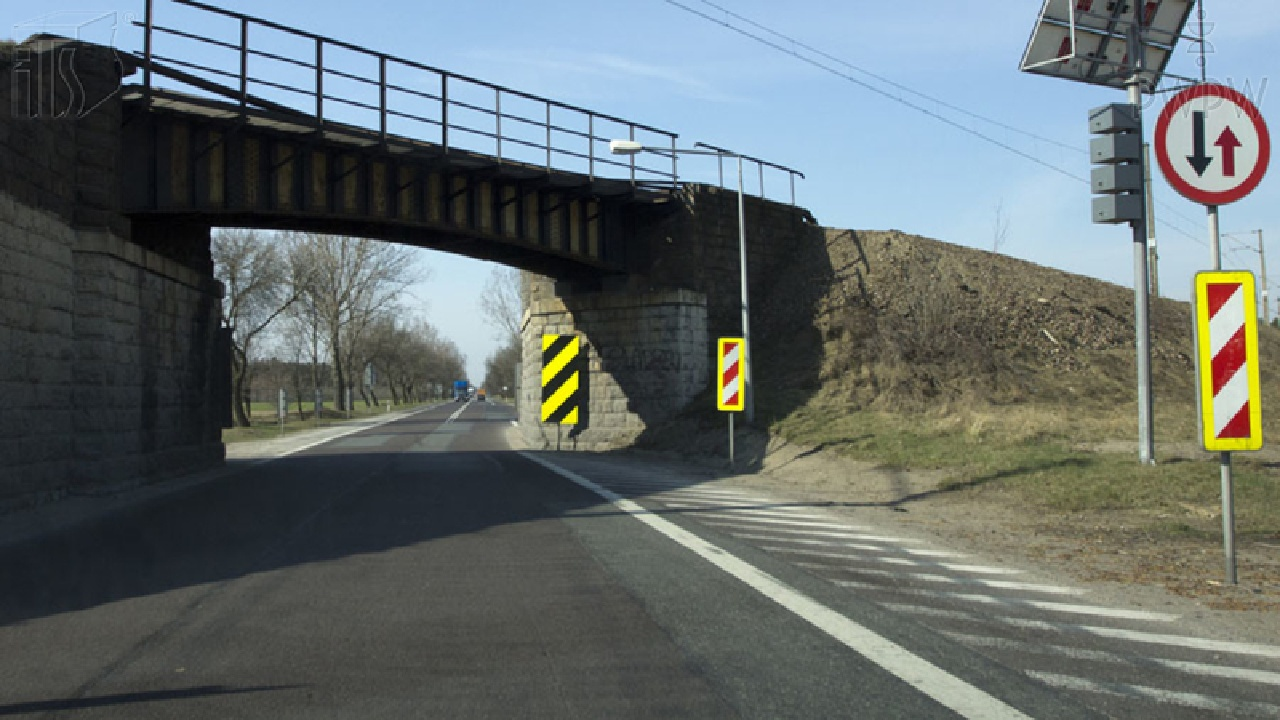B31: (1153, 82, 1271, 205)
